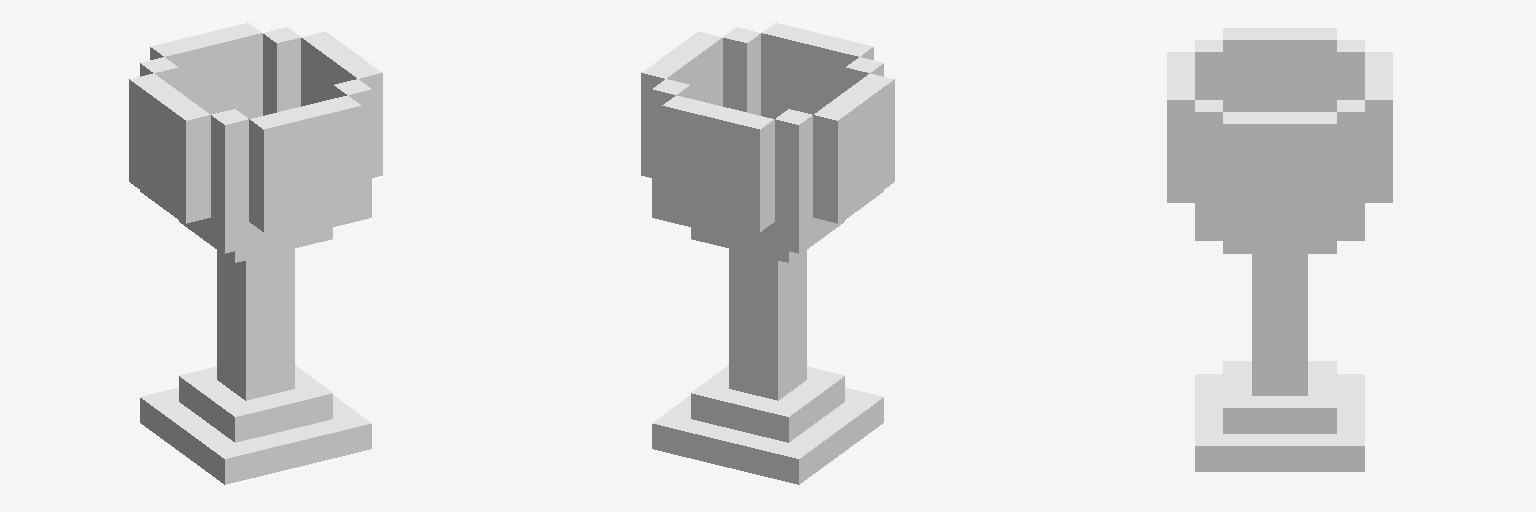
The model's file is kieliszek.obj.
3 views of the same model, side by side, from view 1: azimuth 30°, elevation 25°; view 2: azimuth 150°, elevation 25°; view 3: azimuth 270°, elevation 25° (orthographic).
Parts seen in each view (by area): view 1: object 1; view 2: object 1; view 3: object 1.
Part boxes in pixels (bbox=[...]): object 1: bbox=[129, 23, 382, 484]; object 1: bbox=[641, 23, 894, 484]; object 1: bbox=[1167, 28, 1392, 471].
Size of the model in its own units: 0.8 by 1.4 by 0.8.